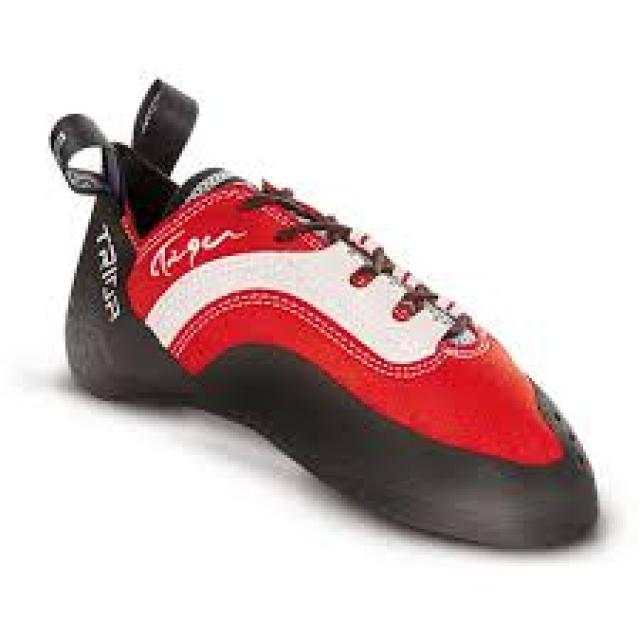climbing-shoes: (48, 78, 599, 554)
